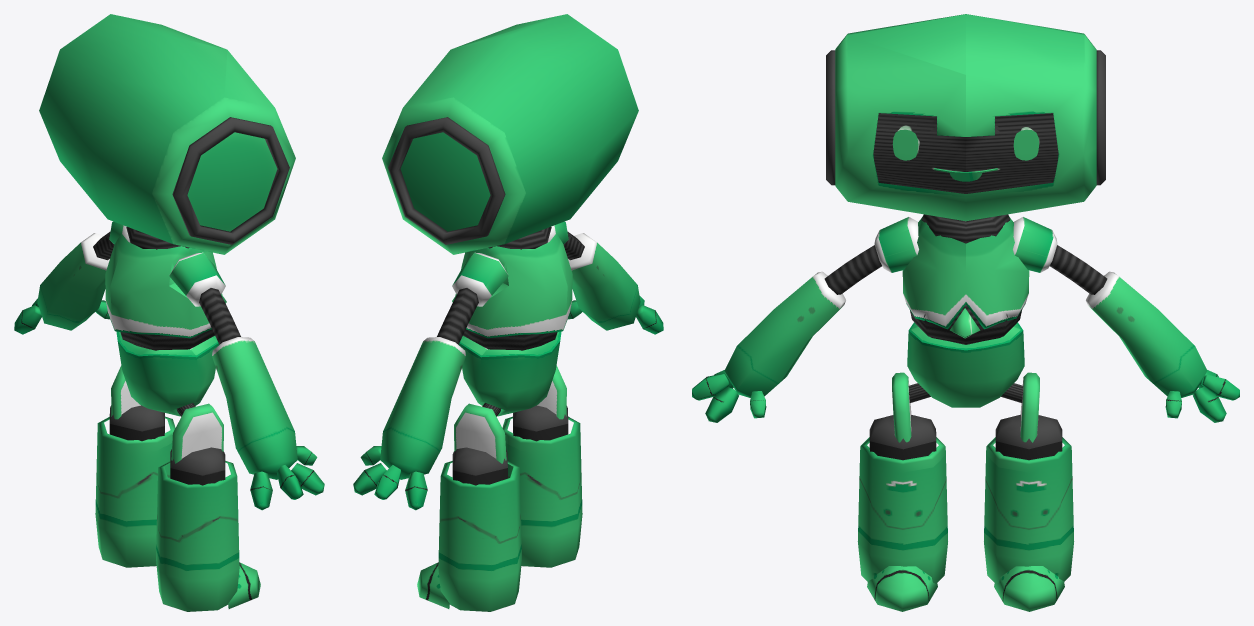
The model's file is Robot.glb.
3 views of the same model, side by side, from view 1: azimuth 30°, elevation 25°; view 2: azimuth 150°, elevation 25°; view 3: azimuth 270°, elevation 25° (orthographic). The views are drawn at different scales.
Parts seen in each view (by area): view 1: mesh_101; view 2: mesh_101; view 3: mesh_101.
Part boxes in pixels (x1=…): mesh_101: x1=14, y1=14, x2=324, y2=611; mesh_101: x1=353, y1=14, x2=663, y2=611; mesh_101: x1=692, y1=14, x2=1239, y2=611.
Size of the model in its own units: 1.11 by 3.55 by 3.11.
Materials: 1 (1 with a texture image).
